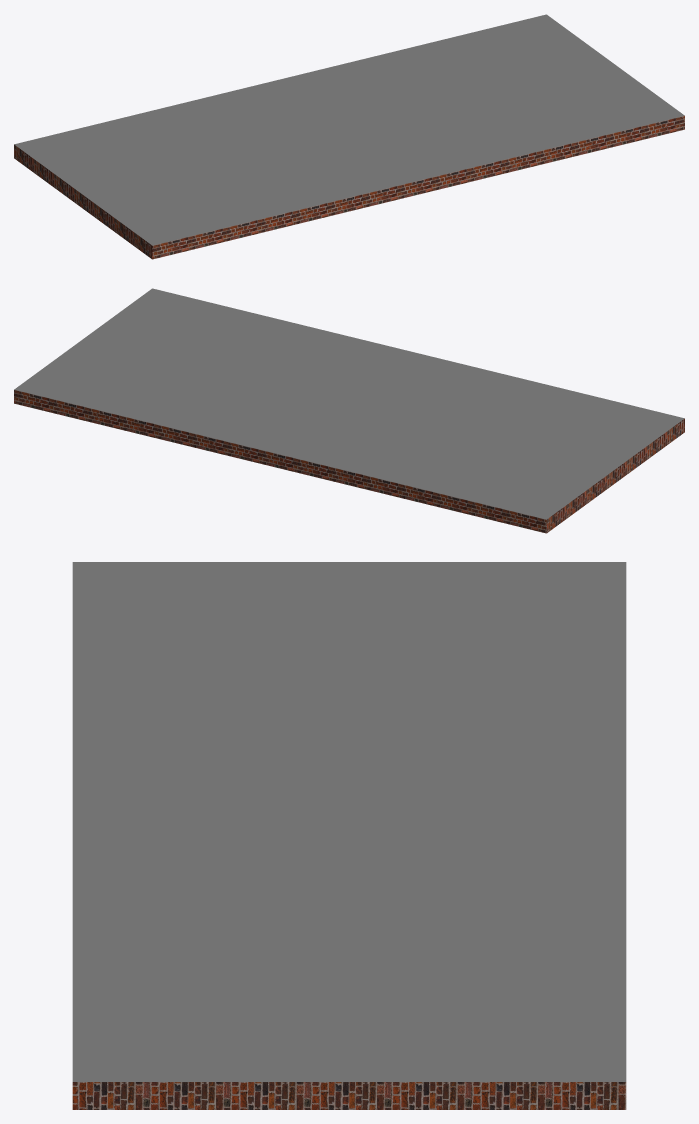
Rendered from SingleWall.dae.
The picture shows the model from 3 angles, top to bottom: view 1: azimuth 30°, elevation 25°; view 2: azimuth 150°, elevation 25°; view 3: azimuth 270°, elevation 25°; orthographic projection. The views are drawn at different scales.
Parts seen in each view (by area): view 1: Wall_Back; view 2: Wall_Back; view 3: Wall_Back.
Boxes of the visible parts, x1=… form: Wall_Back: x1=14, y1=14, x2=684, y2=259; Wall_Back: x1=14, y1=288, x2=684, y2=533; Wall_Back: x1=72, y1=562, x2=626, y2=1109.
Bounding box in the file's own units: 20 × 0.5 × 9.
Materials: 4 (1 with a texture image).
